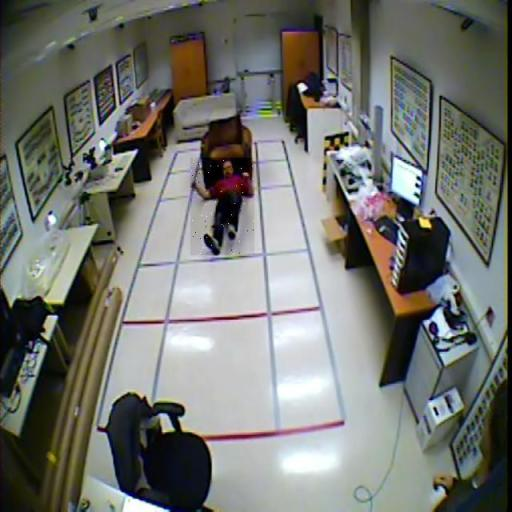Fall: (191, 158, 255, 255)
